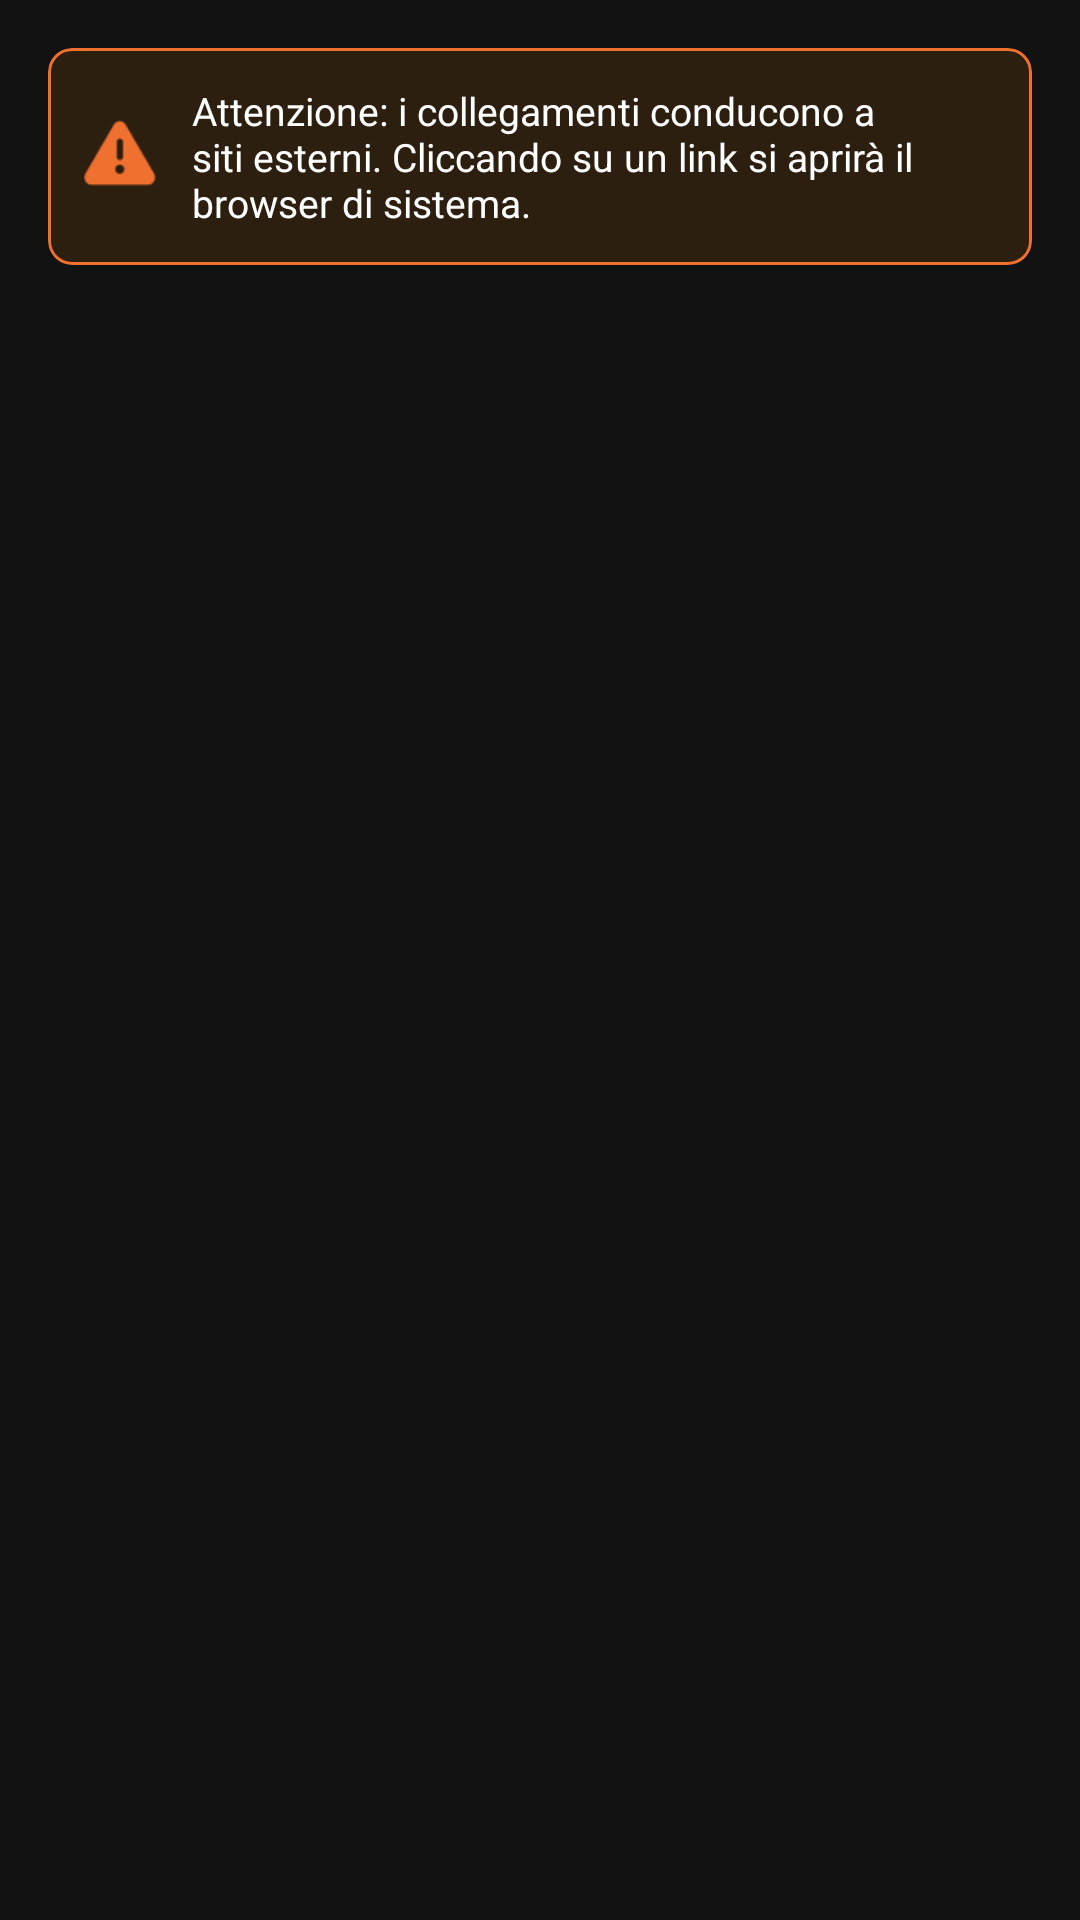

Point at icon controls on the screen. Image size 1080 x 1920, points as (x=x, y=y).
alert: (x=120, y=153)
